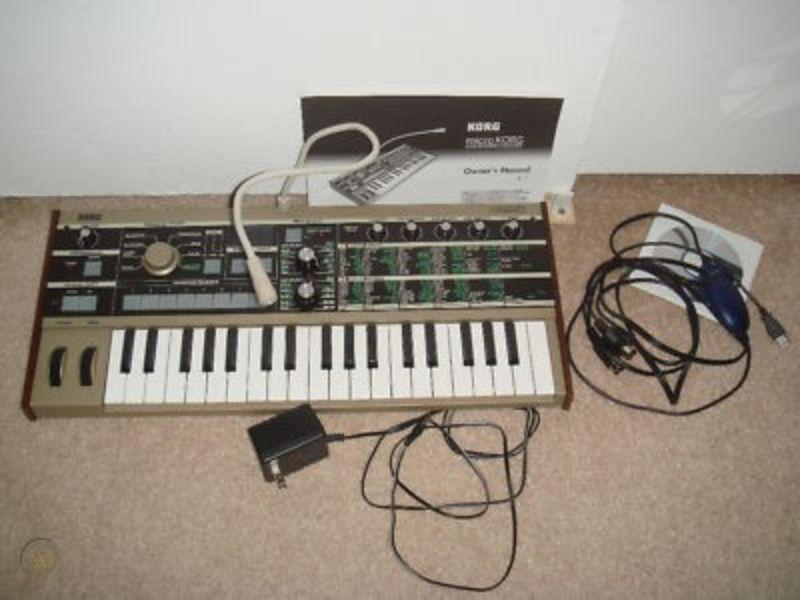synthesizer: (35, 200, 567, 407)
